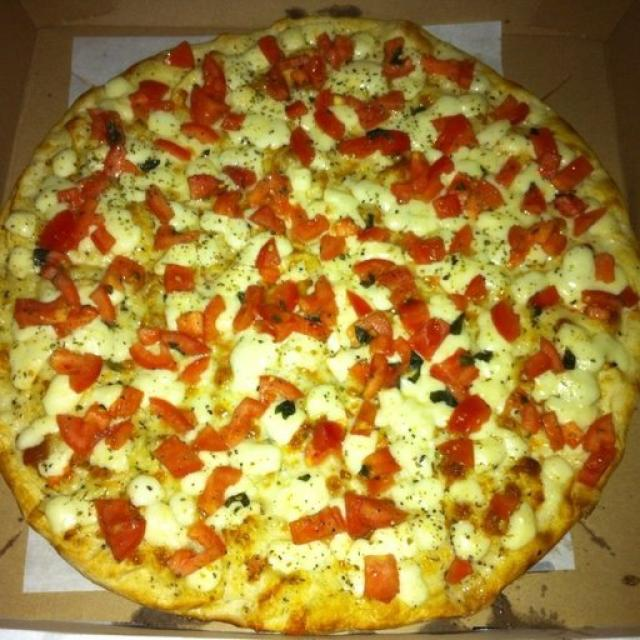Pizza: (0, 15, 640, 634)
Tomato: (348, 256, 469, 400), (196, 158, 324, 240), (238, 244, 337, 344), (272, 95, 413, 152), (136, 298, 221, 380), (404, 148, 500, 218), (214, 370, 298, 446), (176, 53, 247, 142), (14, 264, 93, 333), (260, 36, 354, 88), (387, 36, 478, 88), (44, 189, 112, 255), (299, 494, 405, 536), (63, 389, 137, 448), (443, 354, 480, 472), (354, 225, 472, 258), (532, 125, 587, 190), (93, 256, 145, 324), (92, 495, 143, 563), (152, 181, 201, 246), (178, 522, 225, 588), (527, 354, 562, 436), (531, 192, 602, 228), (52, 342, 102, 391), (93, 117, 135, 173), (570, 418, 610, 475), (199, 464, 239, 518), (584, 288, 634, 325), (158, 432, 198, 478), (511, 225, 564, 258), (364, 554, 398, 600), (434, 113, 471, 155), (298, 424, 340, 457), (154, 396, 190, 433), (138, 80, 169, 114), (496, 93, 529, 123), (496, 478, 518, 521), (168, 258, 194, 292), (363, 454, 392, 482), (589, 248, 614, 280), (532, 281, 557, 309), (502, 304, 516, 342), (449, 556, 466, 586)
